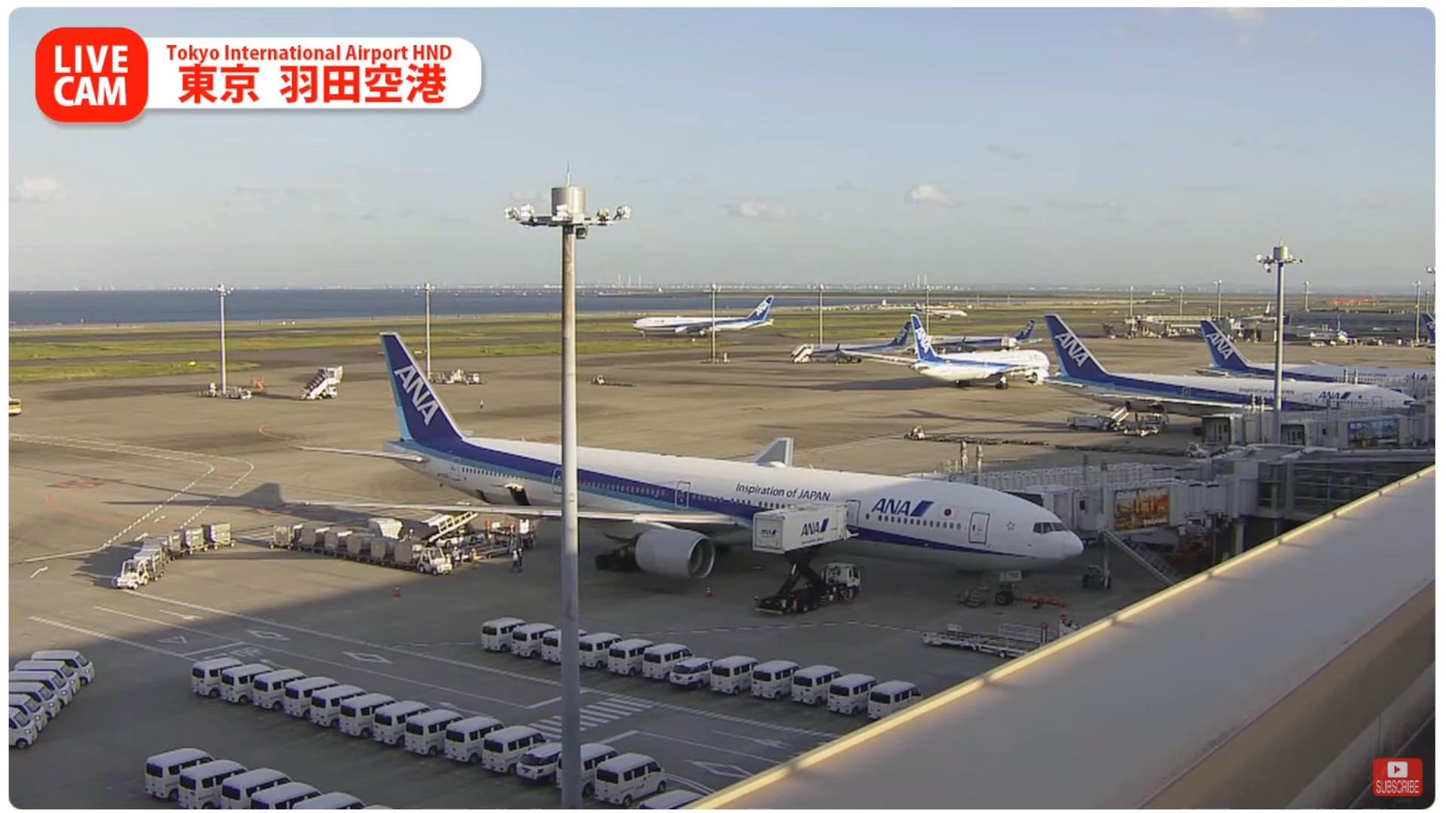Aerobridge: (990, 474, 1217, 523), (903, 458, 1204, 486)
Airplane: (290, 334, 1085, 584)
Baggage truck: (367, 516, 406, 541)
Catering: (752, 497, 860, 615)
Dolly: (270, 522, 424, 572), (132, 517, 236, 578)
JCPL: (908, 613, 1071, 657), (442, 510, 538, 563)
Skyloader: (419, 512, 479, 546)
Tractor: (116, 556, 152, 591), (417, 547, 455, 576)
Window: (1253, 443, 1435, 520)
